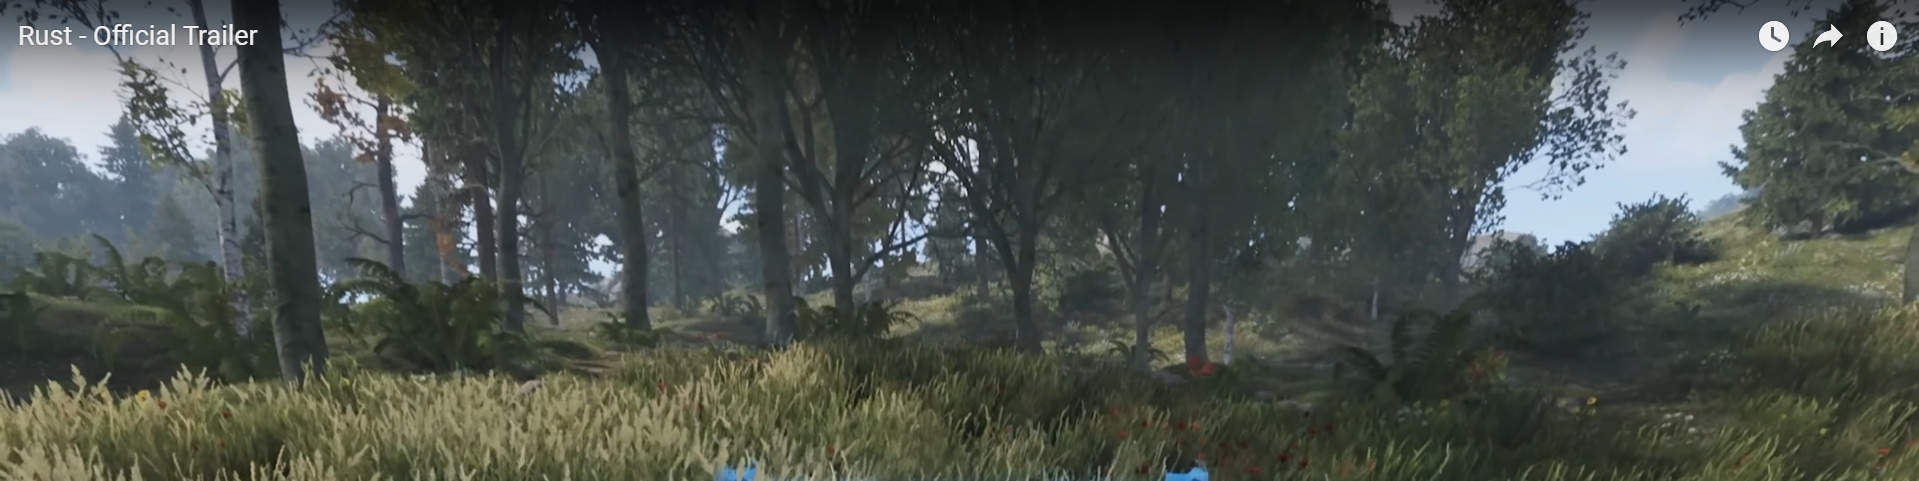tree: (174, 2, 266, 399), (226, 2, 310, 434), (581, 12, 666, 368), (796, 1, 878, 344), (723, 21, 798, 390), (409, 51, 490, 368), (1768, 1, 1868, 237), (472, 22, 538, 344), (1425, 1, 1496, 290), (1350, 1, 1404, 323), (350, 56, 414, 328), (1121, 1, 1161, 390), (1186, 1, 1229, 367), (1011, 18, 1055, 357), (947, 1, 993, 328)
